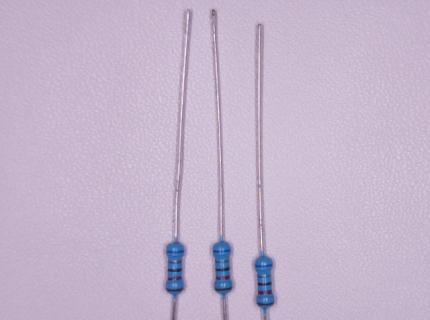Black band: (215, 267, 230, 272), (257, 281, 272, 286), (167, 268, 182, 272)
Blue band: (212, 249, 231, 253), (255, 263, 273, 267), (166, 250, 185, 253)
Brown band: (166, 287, 183, 291), (215, 287, 232, 291), (257, 302, 274, 306)
Grey band: (168, 260, 182, 264), (215, 259, 229, 263), (257, 275, 271, 278)
Red band: (215, 275, 230, 281), (258, 289, 273, 295), (168, 276, 182, 281)
